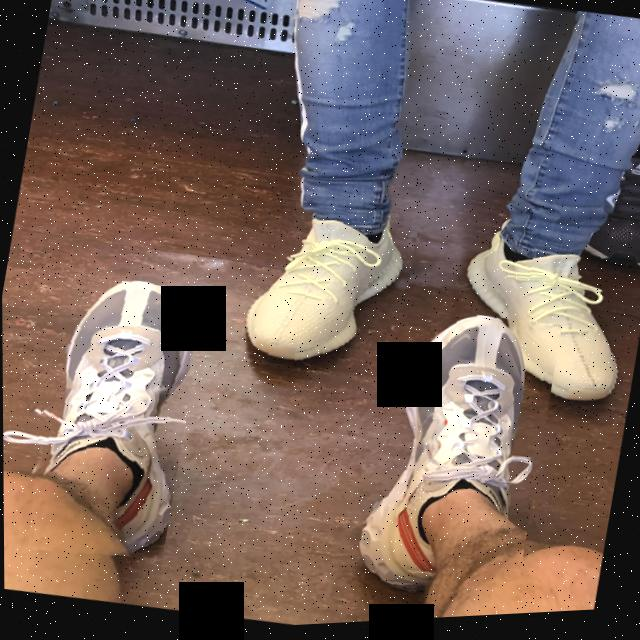shoe: (341, 302, 562, 618), (7, 267, 208, 574), (440, 210, 640, 427), (223, 191, 420, 390)
